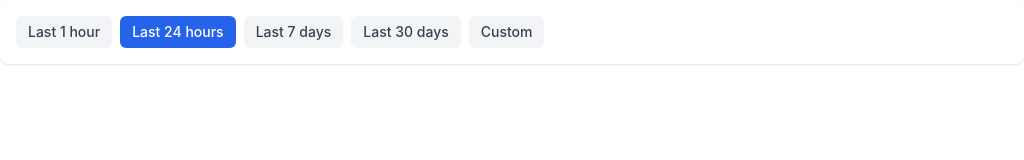
Test: DateFilter › shows custom date inputs when Custom is selected
Click the button "Custom" at [507, 32], box [469,16,544,48]
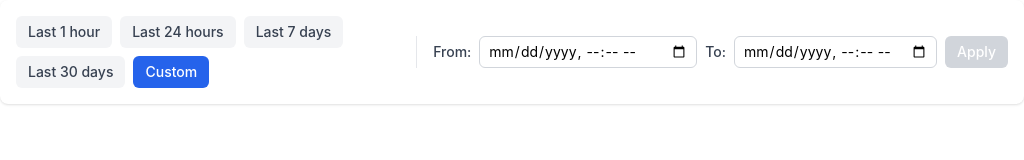
Expected: the field labelled "From:" is shown, [479,36,697,68]
Expected: the field labelled "To:" is shown, [734,36,937,68]
Expected: the button "Apply" is shown, [945,36,1008,68]
